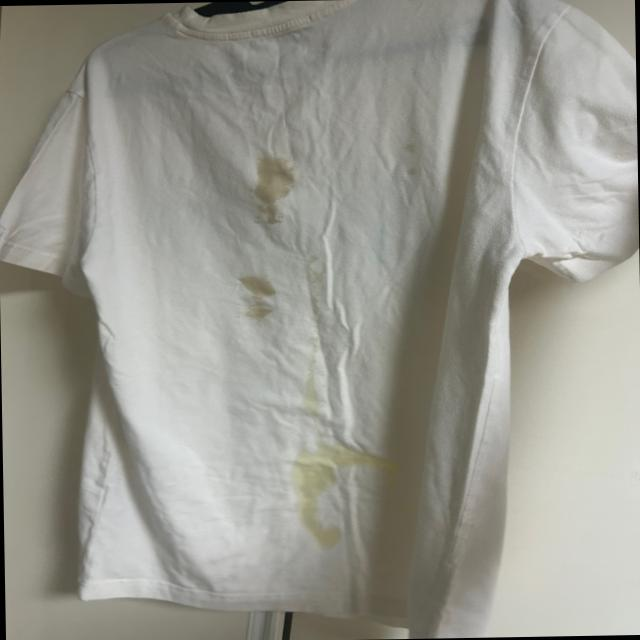stain: (284, 444, 424, 548), (245, 155, 306, 238), (226, 272, 279, 326), (295, 346, 334, 419), (303, 256, 329, 326)
